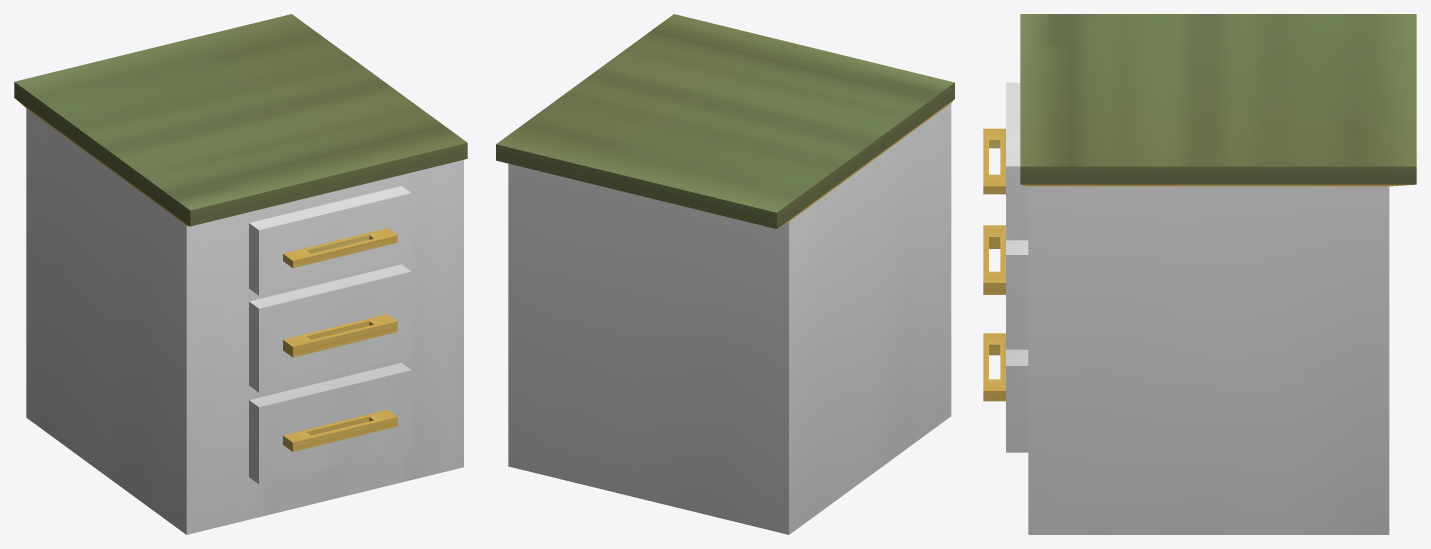
The model's file is sm_worktop_standar_007x007x007_a.fbx.
3 views of the same model, side by side, from view 1: azimuth 30°, elevation 25°; view 2: azimuth 150°, elevation 25°; view 3: azimuth 270°, elevation 25° (orthographic). The views are drawn at different scales.
Visible parts, largest first — view 1: sm_worktop_standar_007x007x007_a; view 2: sm_worktop_standar_007x007x007_a; view 3: sm_worktop_standar_007x007x007_a.
Boxes of the visible parts, box(x1,y1,x2,y2) form: sm_worktop_standar_007x007x007_a: box(14, 14, 467, 534); sm_worktop_standar_007x007x007_a: box(496, 14, 954, 534); sm_worktop_standar_007x007x007_a: box(983, 14, 1416, 534).
Bounding box in the file's own units: 70 × 78.85 × 83.99.
